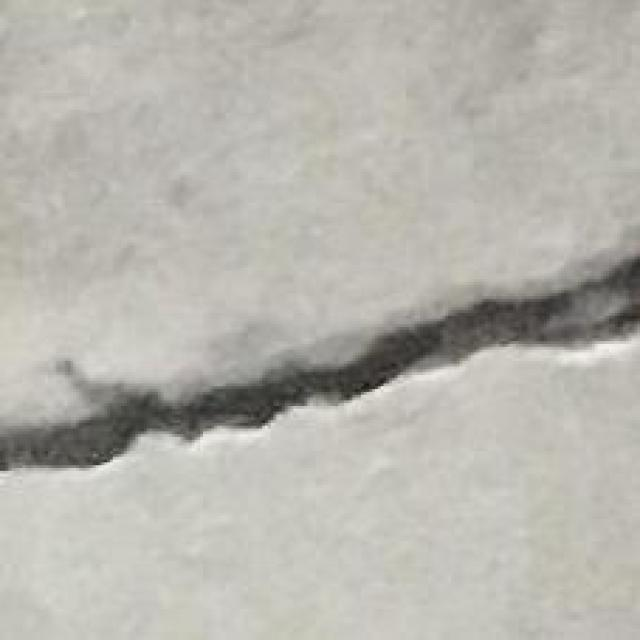horizontal crack: (0, 254, 639, 470)
